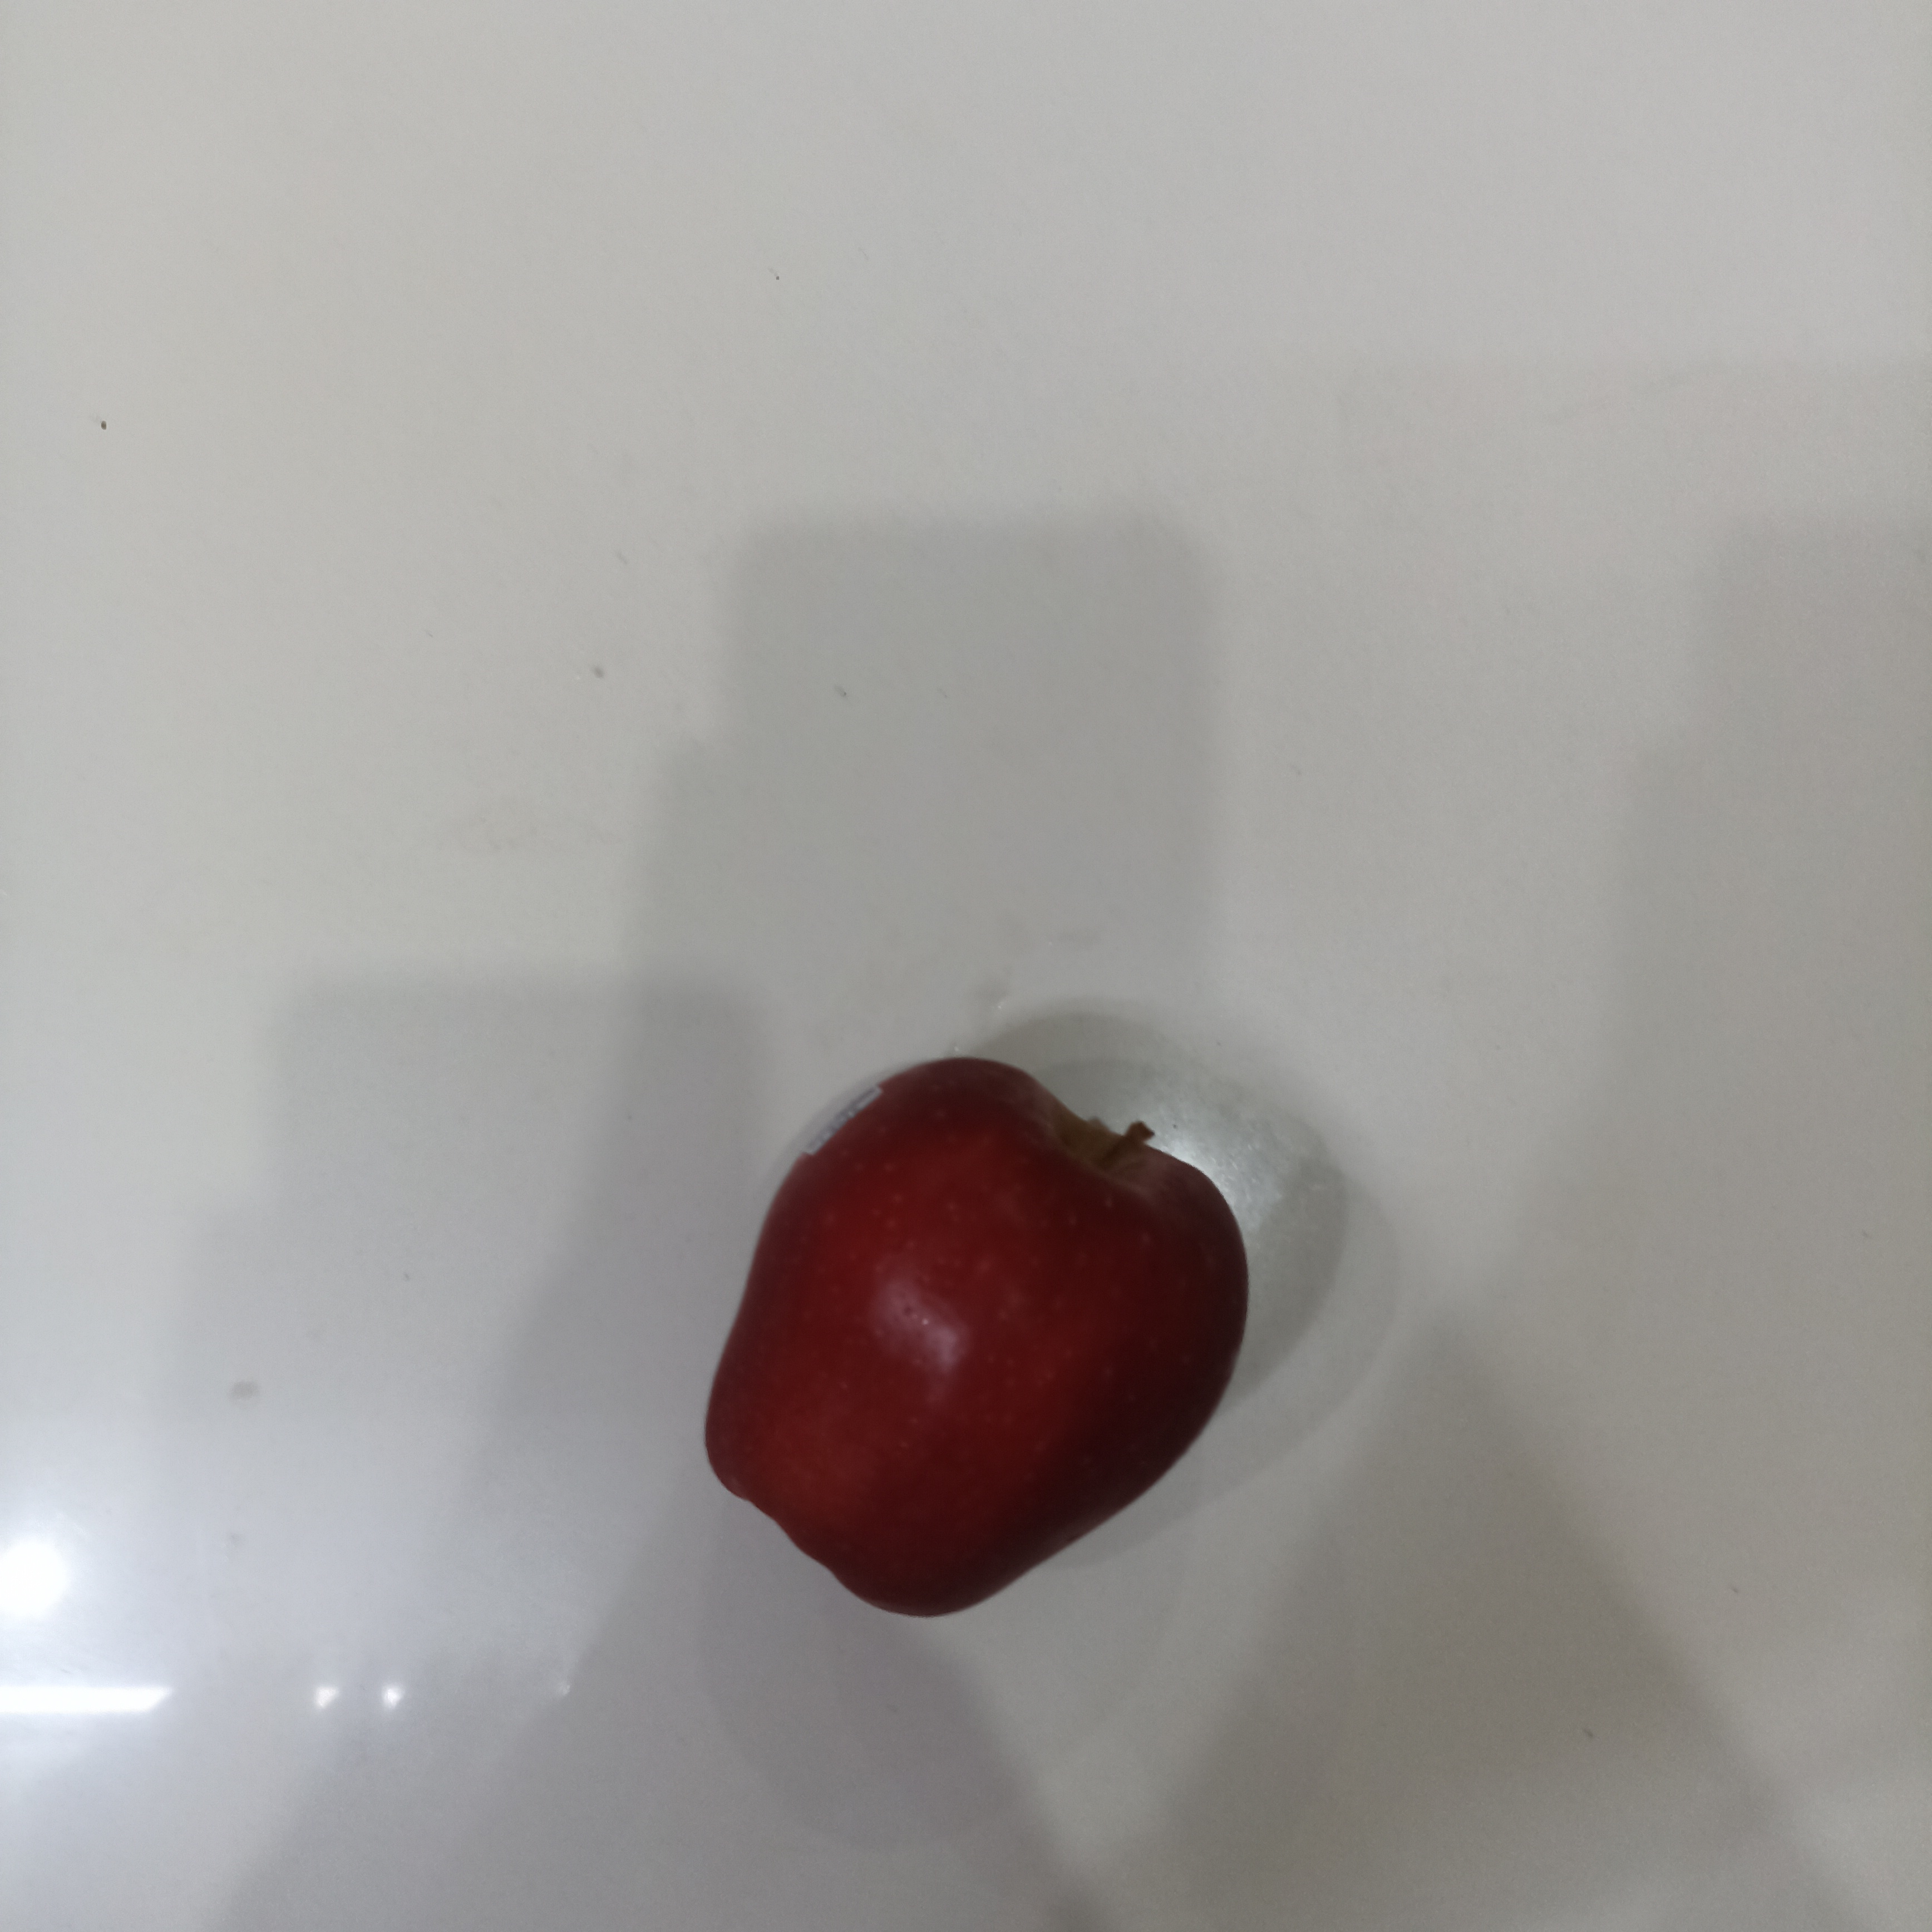Tao do: (702, 1056, 1250, 1618)
